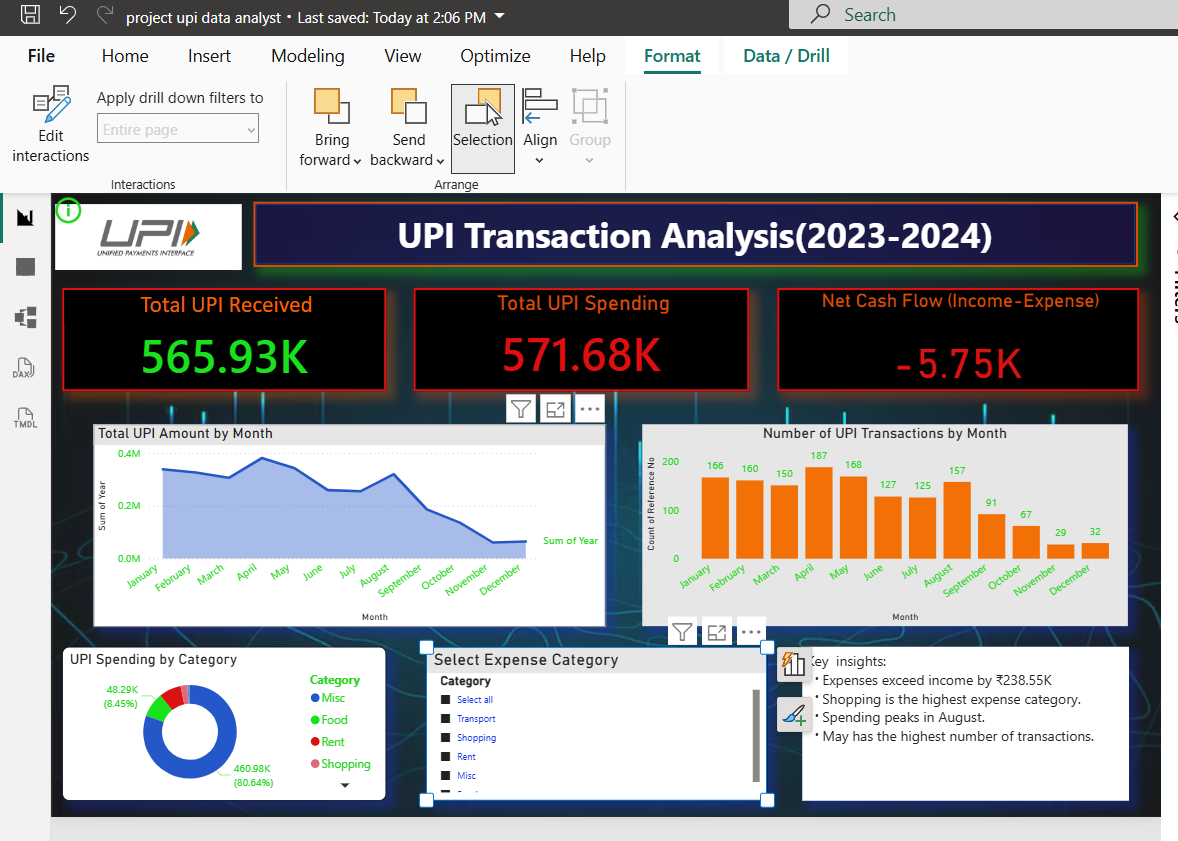

What the dashboard file says about the page in this screenshot:
{"tool":"powerbi","page":{"name":"Overview","canvas":[1280,720],"ordinal":0},"visuals":[{"type":"card","title":"Total UPI Spending","fields":{"Values":["Sum(MyTransaction.Amount Spent)"]},"box":[418.6,109.8,387.3,119.4],"z":0},{"type":"donutChart","title":"UPI Spending by Category","fields":{"Category":["MyTransaction.Category"],"Y":["Sum(MyTransaction.Amount Spent)"]},"box":[13.3,523.6,374,177.3],"z":1000},{"type":"columnChart","title":"Number of UPI Transactions by Month","fields":{"Category":["MyTransaction.Month"],"Y":["CountNonNull(MyTransaction.Reference No)"]},"box":[681.6,266.6,559.8,232.8],"z":2000},{"type":"card","title":"Net Cash Flow (Income-Expense)","fields":{"Values":["MyTransaction.Net Balance"]},"box":[837.3,109.8,417.4,119.4],"z":3000},{"type":"slicer","title":"Select Expense Category","fields":{"Values":["MyTransaction.Category"]},"box":[433.1,523.6,393.3,177.3],"z":4000},{"type":"lineChart","title":"Total UPI Amount by Month","fields":{"Category":["MyTransaction.Month"],"Y":["Sum(MyTransaction.Year)"]},"box":[49.5,266.6,589.9,232.8],"z":5000},{"type":"card","title":"Total UPI Received ","fields":{"Values":["Sum(MyTransaction.Amount Received)"]},"box":[13.3,109.8,374,119.4],"z":6000},{"type":"image","box":[0,0,225,101.2],"z":7000},{"type":"shape","box":[233.8,10,1020,75],"z":8000},{"type":"textbox","box":[866.2,523.6,376.4,177.3],"z":9000},{"type":"actionButton","box":[0,0,100,40],"z":15000}]}

Visuals, with their boxes in screenshot pixels (x1, y1, x2, y2):
"Total UPI Spending" card: bbox=(406, 283, 745, 388)
"UPI Spending by Category" donutChart: bbox=(52, 645, 379, 801)
"Number of UPI Transactions by Month" columnChart: bbox=(637, 421, 1127, 624)
"Net Cash Flow (Income-Expense)" card: bbox=(773, 283, 1138, 388)
"Select Expense Category" slicer: bbox=(419, 645, 763, 801)
"Total UPI Amount by Month" lineChart: bbox=(83, 421, 600, 624)
"Total UPI Received " card: bbox=(52, 283, 379, 388)
image: bbox=(40, 187, 237, 276)
shape: bbox=(245, 196, 1137, 262)
textbox: bbox=(798, 645, 1128, 801)
actionButton: bbox=(40, 187, 127, 222)
